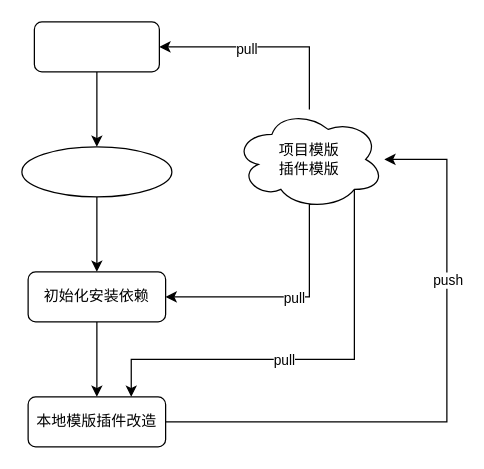
The diagram is 484 pixels wide and 469 high, and some of its shapes have lost their labels. The centre of each missing label's shape, as x and y in pixels:
"CLI工具新建项目" belongs at pixel 96 46.
"配置项目" belongs at pixel 96 171.
